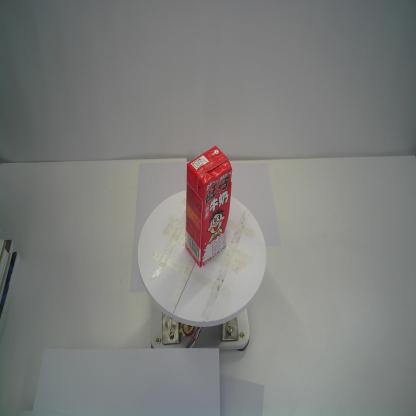Milk: (185, 146, 232, 268)
